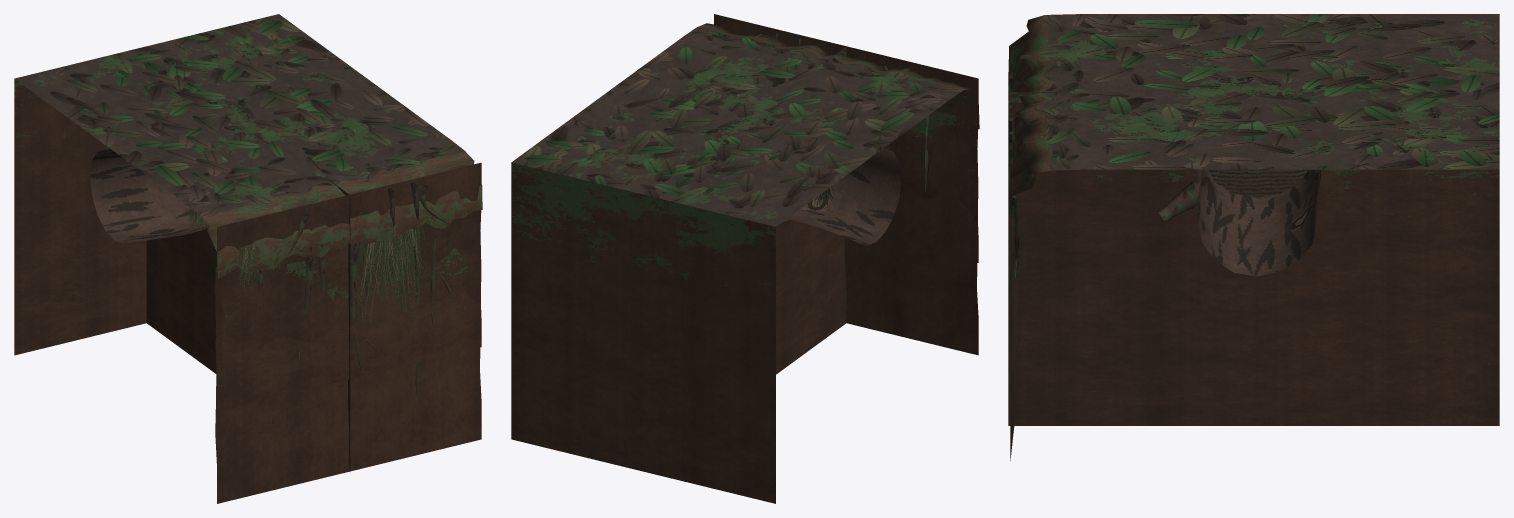
File: platform_skins_cuyabeno_LOD0.glb
3 renders of one model, left to right at view 1: azimuth 30°, elevation 25°; view 2: azimuth 150°, elevation 25°; view 3: azimuth 270°, elevation 25°, orthographic. The views are drawn at different scales.
Parts seen in each view (by area): view 1: Solid_Top_2m_LOD0, Solid_Fill_2m_LOD0, Lip_2m_LOD0, Solid_Fill_CapR_LOD0, Oneway_2m_LOD0, Solid_Top_CapR_LOD0, Solid_Top_CapL_LOD0, Solid_Fill_CapL_LOD0, Lip_CapL_LOD0; view 2: Solid_Fill_2m_LOD0, Solid_Top_2m_LOD0, Solid_Fill_CapR_LOD0, Solid_Top_CapL_LOD0, Oneway_2m_LOD0, Lip_2m_LOD0, Solid_Top_CapR_LOD0; view 3: Solid_Fill_CapL_LOD0, Solid_Top_2m_LOD0, Solid_Top_CapL_LOD0, Lip_2m_LOD0, Oneway_2m_LOD0, Solid_Top_CapR_LOD0, Oneway_CapL_LOD0, Solid_Fill_2m_LOD0.
Boxes of the visible parts, x1,y1,x2,y2 form: Solid_Top_2m_LOD0: (14,14,481,411); Solid_Fill_2m_LOD0: (14,79,481,503); Lip_2m_LOD0: (188,141,482,331); Solid_Fill_CapR_LOD0: (102,144,350,481); Oneway_2m_LOD0: (90,147,209,243); Solid_Top_CapR_LOD0: (103,47,349,386); Solid_Top_CapL_LOD0: (149,36,393,378); Solid_Fill_CapL_LOD0: (350,184,393,470); Lip_CapL_LOD0: (320,162,393,244); Solid_Fill_2m_LOD0: (511,14,978,503); Solid_Top_2m_LOD0: (511,35,978,410); Solid_Fill_CapR_LOD0: (776,46,890,374); Solid_Top_CapL_LOD0: (599,57,839,370); Oneway_2m_LOD0: (787,148,901,245); Lip_2m_LOD0: (685,23,979,129); Solid_Top_CapR_LOD0: (643,68,860,389); Solid_Fill_CapL_LOD0: (1008,92,1499,425); Solid_Top_2m_LOD0: (1009,14,1499,366); Solid_Top_CapL_LOD0: (1008,92,1499,313); Lip_2m_LOD0: (1008,14,1081,224); Oneway_2m_LOD0: (1158,169,1321,276); Solid_Top_CapR_LOD0: (1008,66,1499,314); Oneway_CapL_LOD0: (1197,169,1317,224); Solid_Fill_2m_LOD0: (1008,117,1018,460).
Size of the model in its own units: 2 by 2 by 2.67.
Materials: 1 (1 with a texture image).
